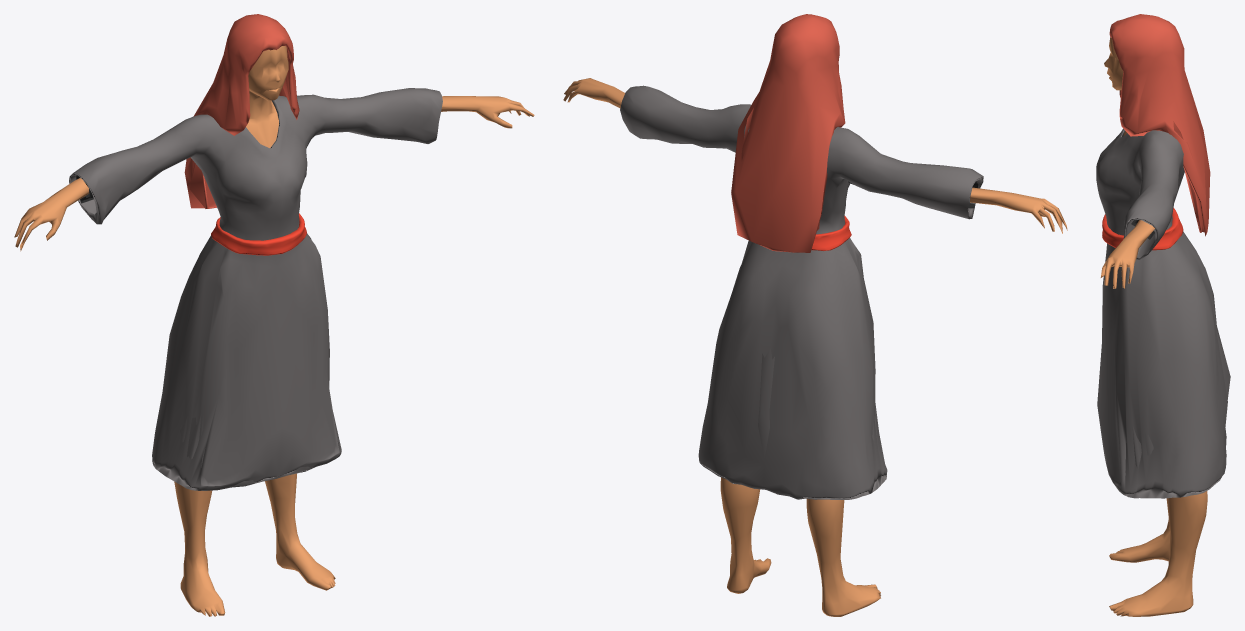
Rendered from Girl_var.3.fbx.
3 views of the same model, side by side, from view 1: azimuth 30°, elevation 25°; view 2: azimuth 150°, elevation 25°; view 3: azimuth 270°, elevation 25° (orthographic).
Visible parts, largest first — view 1: Extract17, female_zbrush, Extract11, Extract27; view 2: Extract17, Extract11, female_zbrush, Extract27; view 3: Extract17, Extract11, female_zbrush, Extract27.
Boxes of the visible parts, x1=… form: Extract17: x1=69, y1=88, x2=442, y2=490; female_zbrush: x1=14, y1=46, x2=534, y2=616; Extract11: x1=184, y1=14, x2=299, y2=208; Extract27: x1=211, y1=213, x2=306, y2=255; Extract17: x1=620, y1=85, x2=983, y2=499; Extract11: x1=731, y1=14, x2=845, y2=252; female_zbrush: x1=563, y1=78, x2=1067, y2=616; Extract27: x1=811, y1=216, x2=851, y2=250; Extract17: x1=1096, y1=128, x2=1230, y2=498; Extract11: x1=1109, y1=14, x2=1210, y2=236; female_zbrush: x1=1100, y1=37, x2=1207, y2=616; Extract27: x1=1102, y1=208, x2=1183, y2=250.
Bounding box in the file's own units: 260 × 281 × 60.25.
